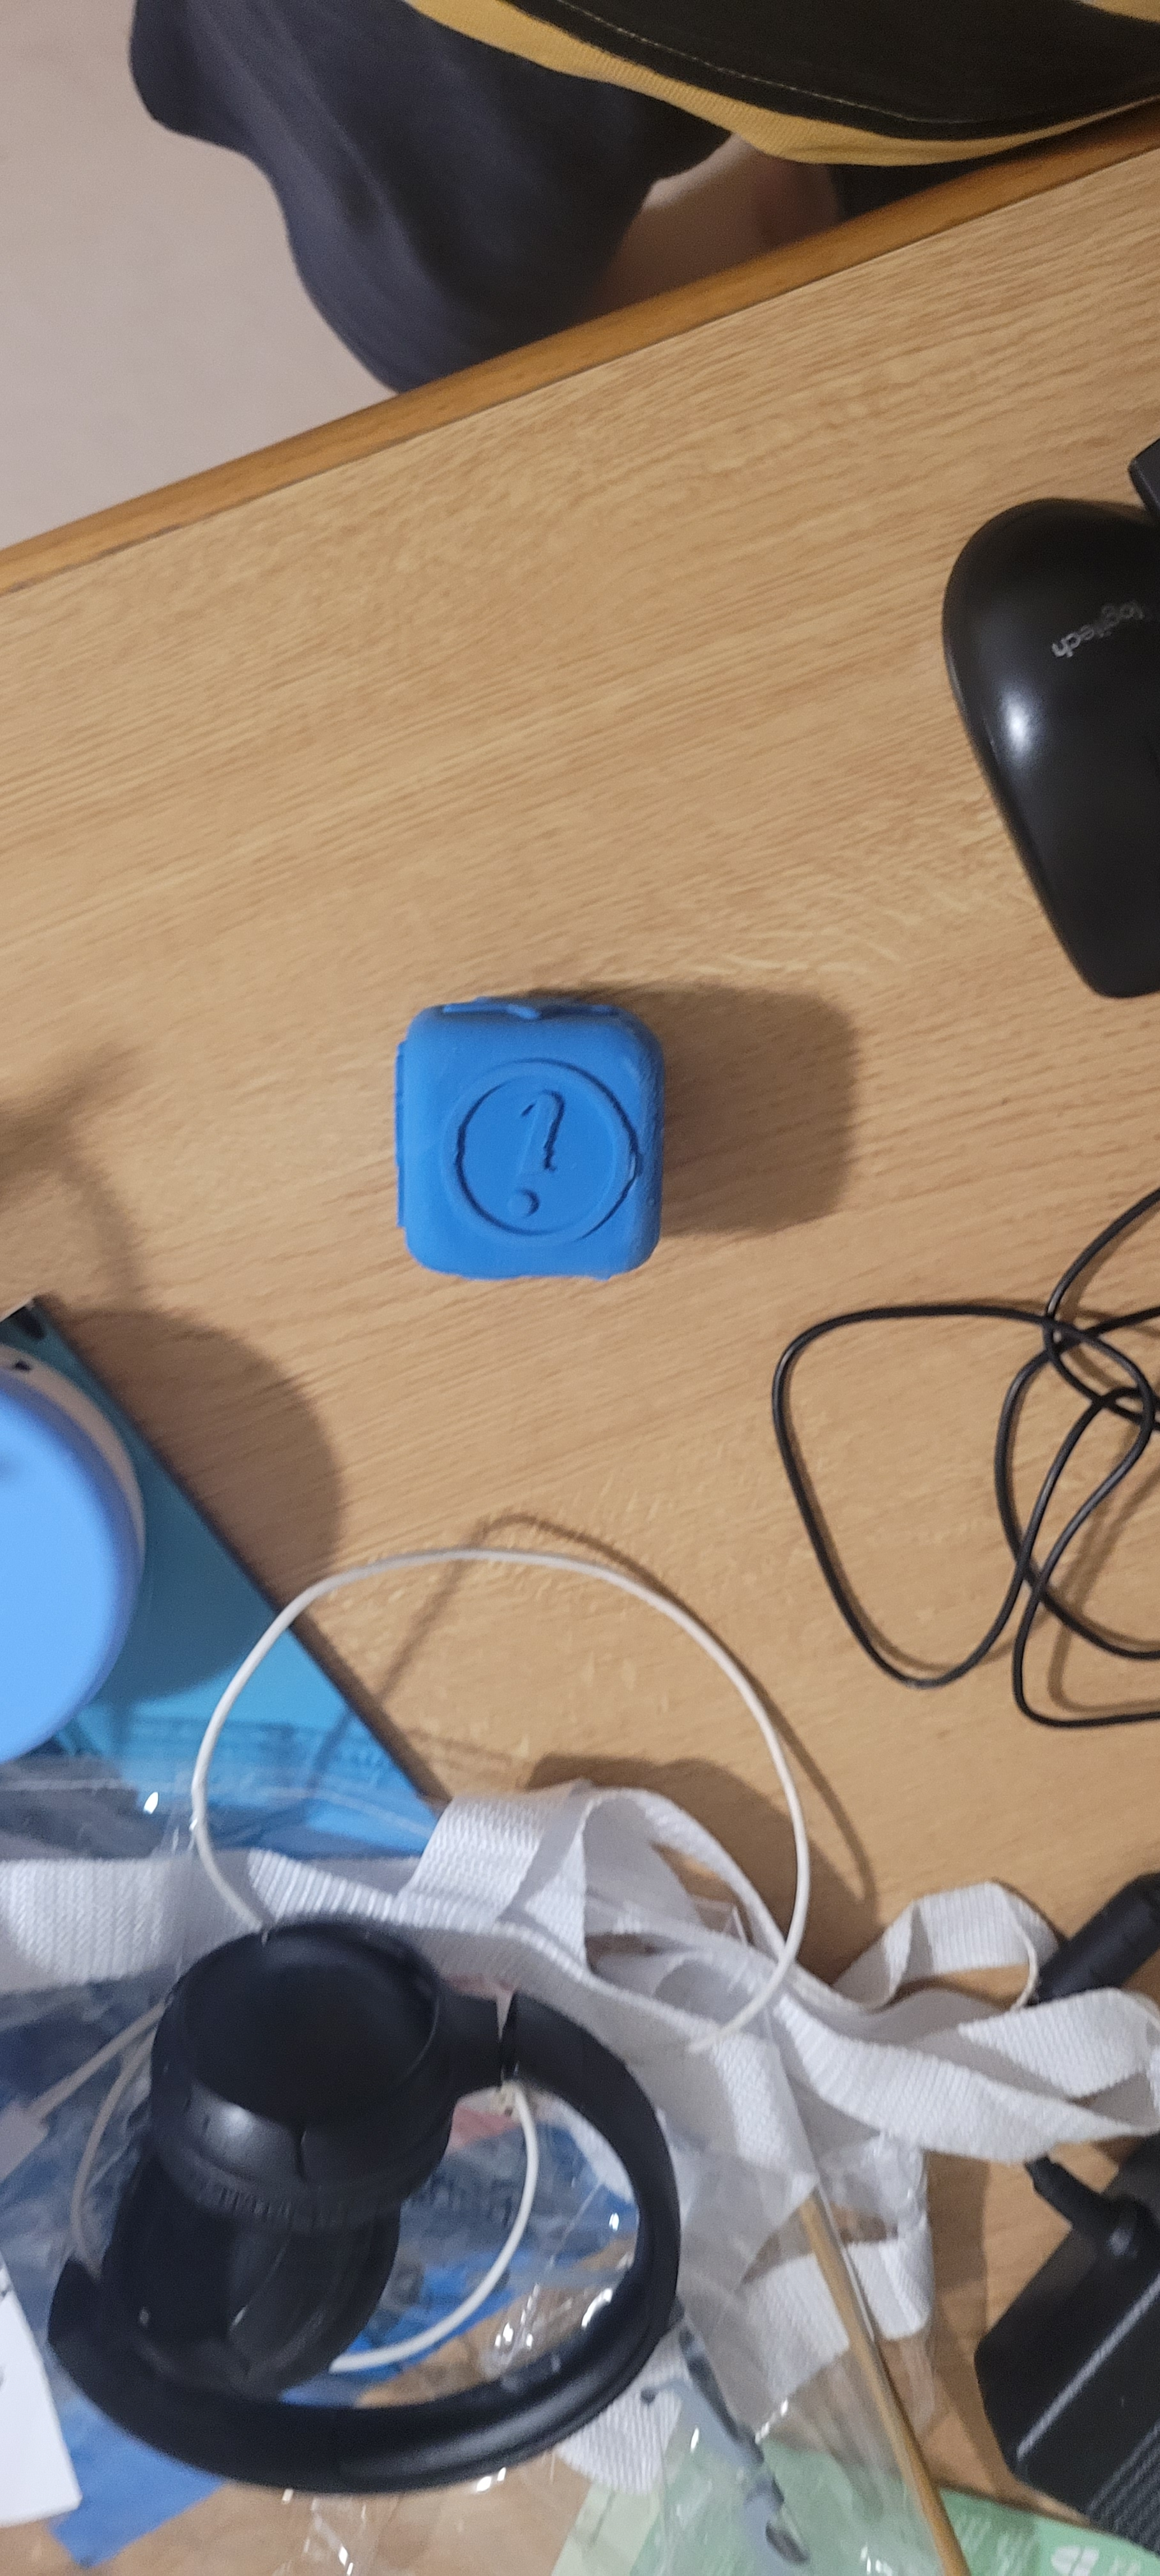Info: (419, 1027, 665, 1278)
